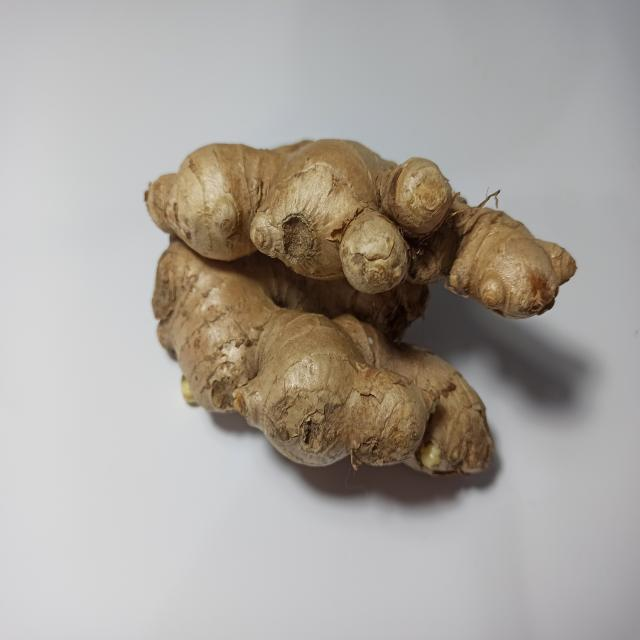ginger: (149, 136, 566, 486)
